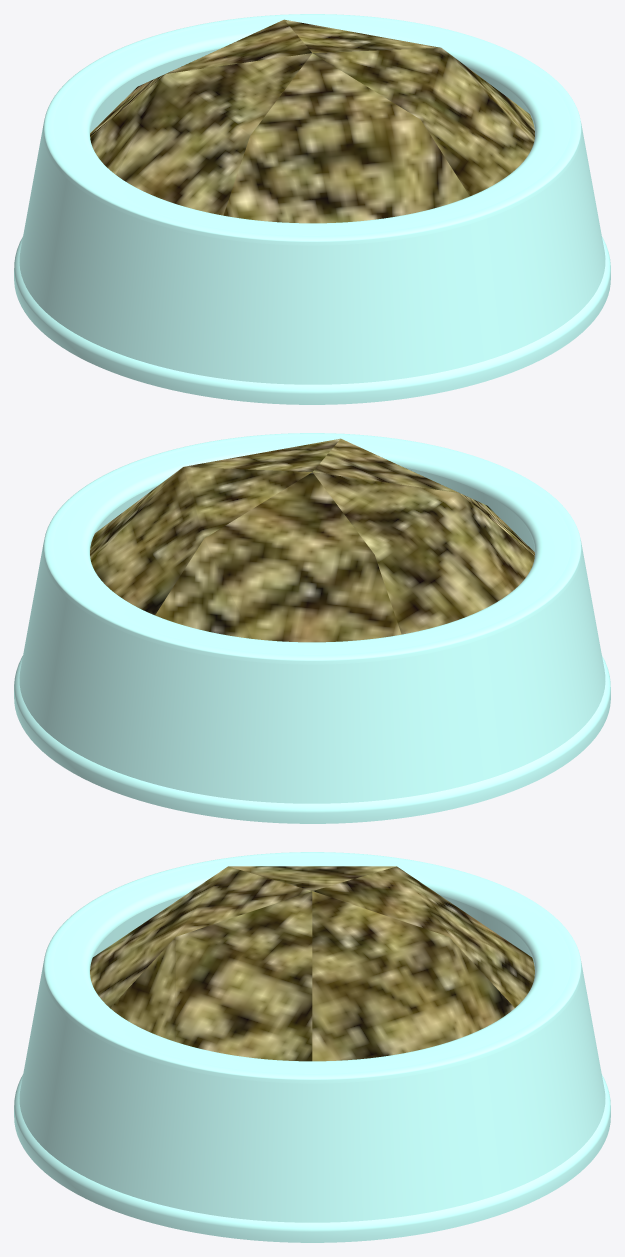
File: bowl_full.gltf
The picture shows the model from 3 angles, top to bottom: view 1: azimuth 30°, elevation 25°; view 2: azimuth 150°, elevation 25°; view 3: azimuth 270°, elevation 25°; orthographic projection.
Visible parts, largest first — view 1: bowl, Icosphere; view 2: bowl, Icosphere; view 3: bowl, Icosphere.
Boxes of the visible parts, bbox=[...] form: bowl: bbox=[14, 14, 610, 404]; Icosphere: bbox=[90, 19, 534, 223]; bowl: bbox=[14, 433, 610, 823]; Icosphere: bbox=[90, 438, 534, 642]; bowl: bbox=[14, 852, 610, 1242]; Icosphere: bbox=[90, 866, 534, 1061].
Bounding box in the file's own units: 4.1 × 1.71 × 4.1.
2 materials, 1 textured.
